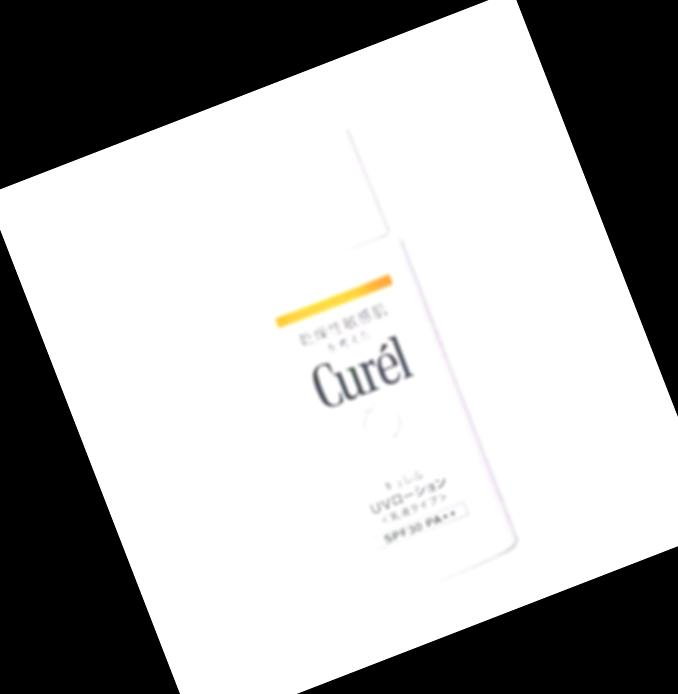cosmetic: (194, 118, 520, 606)
